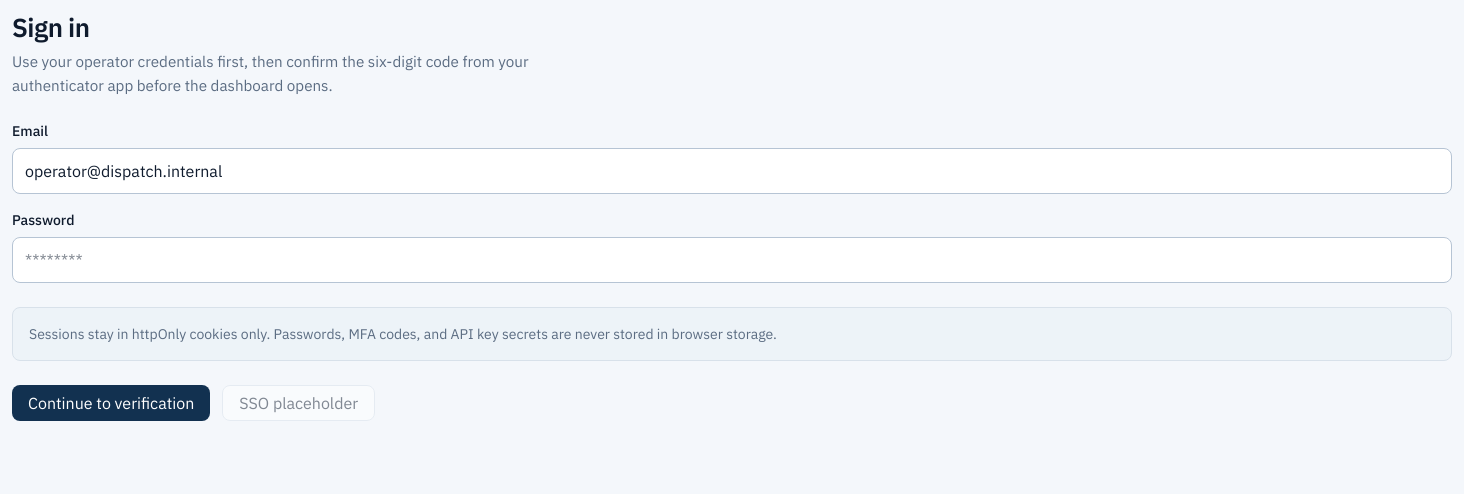
Test case: LoginForm › validates the form before submitting
Type "invalid-email" into the field labelled "Email" at (732, 171), box 12,148 -> 1452,194
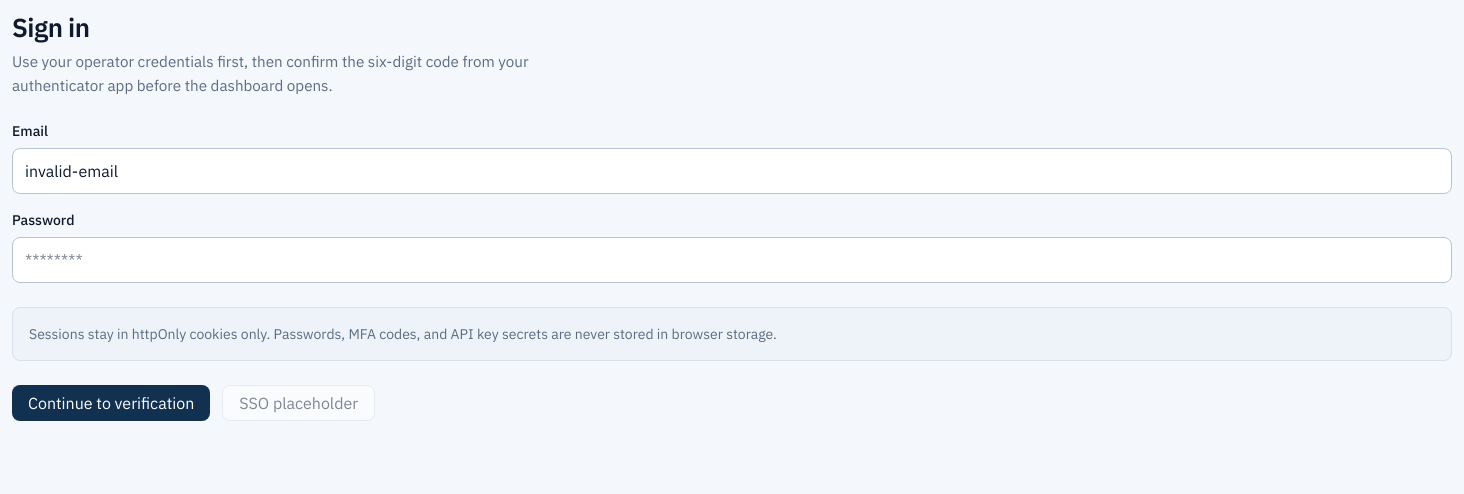
Type "short" into the password field labelled "Password" at (732, 260), box 12,237 -> 1452,283
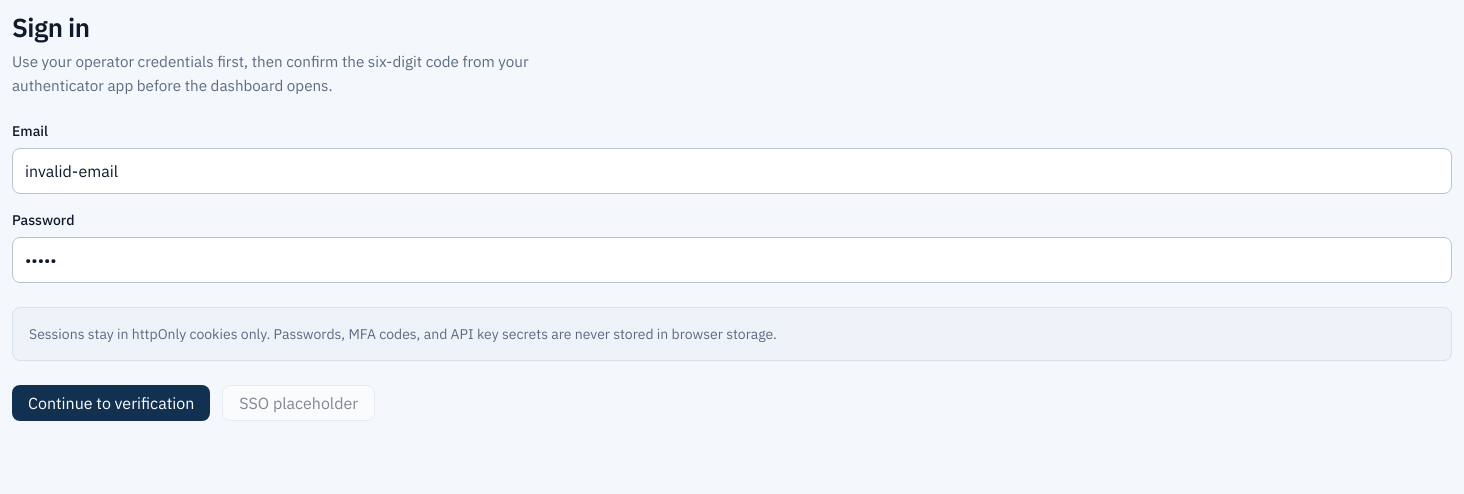
Submit the form named "Continue to verification"
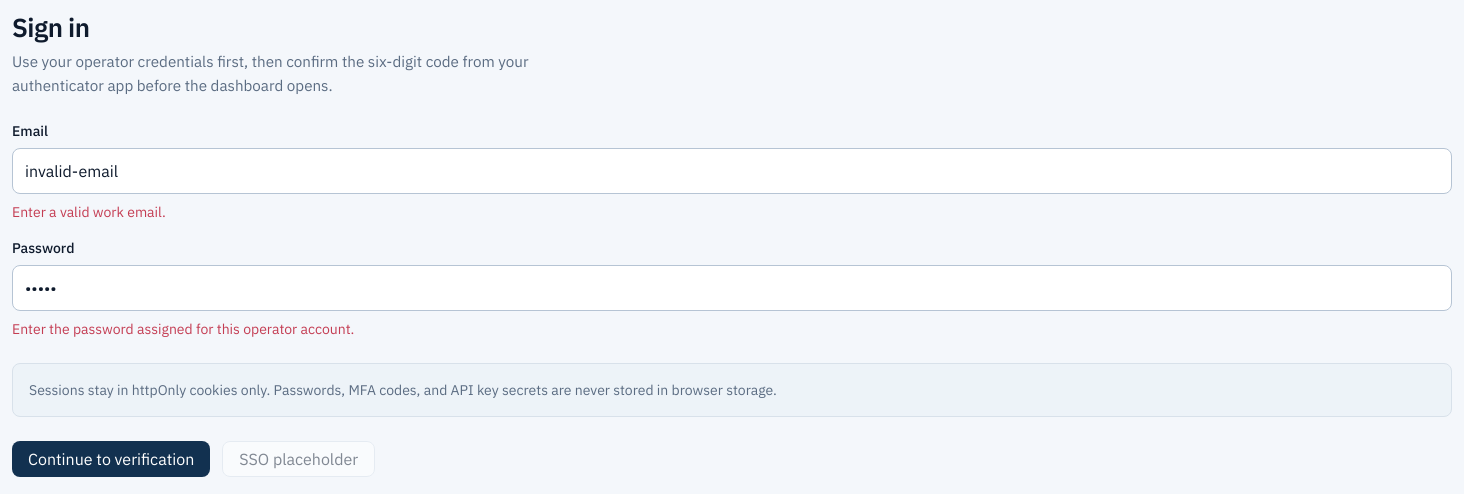
Now the text "Enter a valid work email." is shown, box 12,203 -> 166,221
Now the text "Enter the password assigned for this operator account." is shown, box 12,320 -> 354,338
